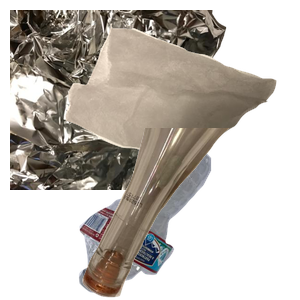glass: (80, 128, 300, 300)
metal: (10, 10, 229, 190)
plastic: (76, 131, 280, 300)
trash: (63, 21, 300, 172)
